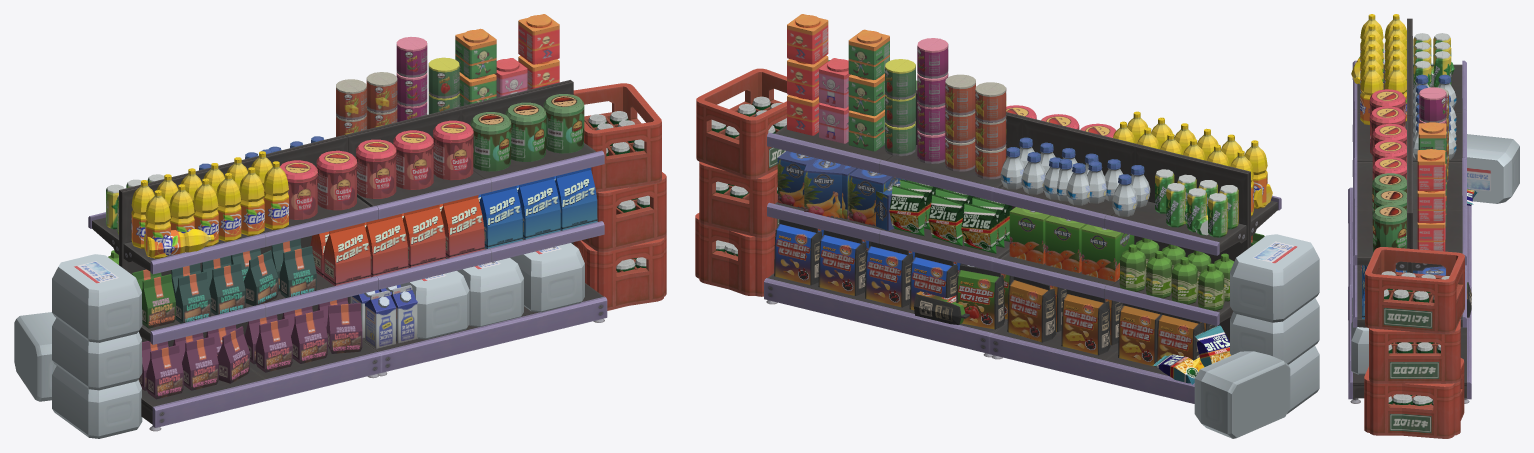
Rendered from Market_04.obj.
3 renders of one model, left to right at view 1: azimuth 30°, elevation 25°; view 2: azimuth 150°, elevation 25°; view 3: azimuth 270°, elevation 25°, orthographic. The views are drawn at different scales.
Bounding box in the file's own units: 5.28 × 2.41 × 1.49.
Materials: 169 (169 with a texture image).
